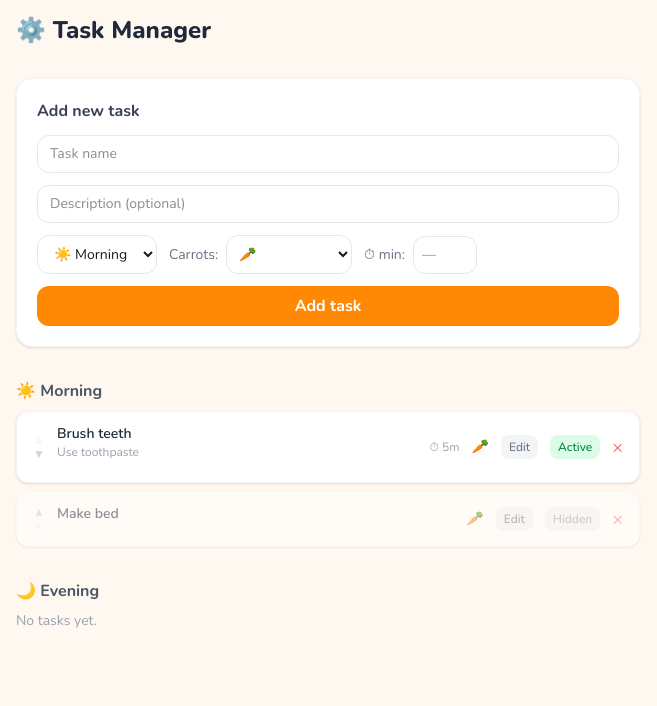
Test: TaskManager editing › clears the error when editing carrots
Expected: the text "Brush teeth" is shown, 57,424 -> 132,443
Click the button "Edit" in the row of "Use toothpaste" at (520, 447), box 501,435 -> 538,459
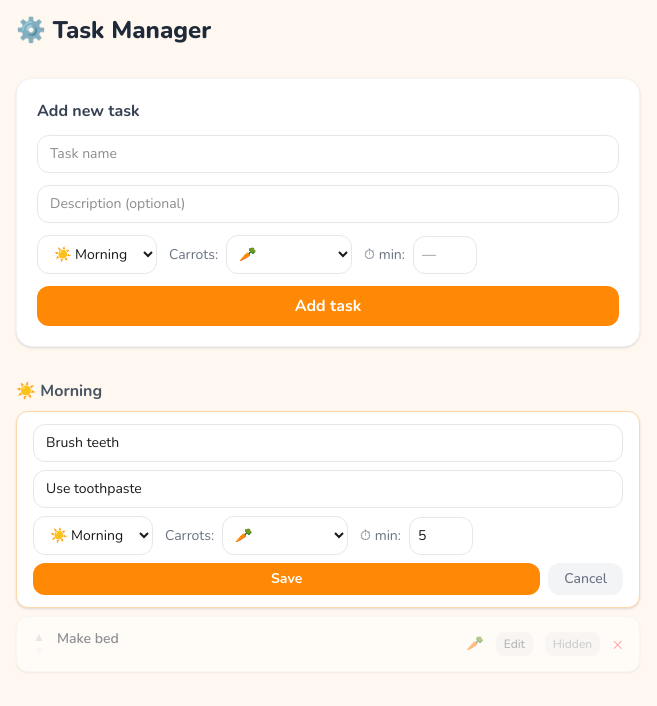
Click the button "Save" at (287, 579), box 33,563 -> 540,595
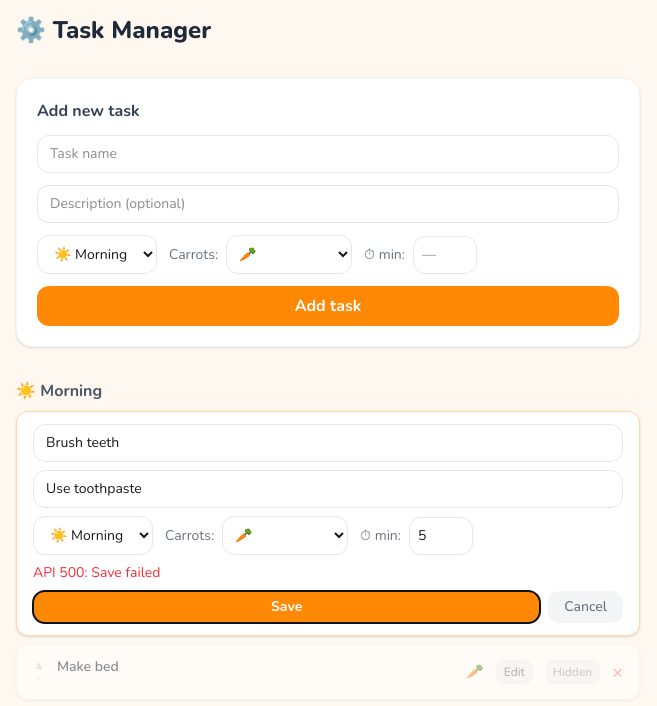
Result: the message "API 500: Save failed" is shown at 33,563 -> 160,582
Select "🥕🥕" in the 4th dropdown at (285, 536), box 222,516 -> 348,555
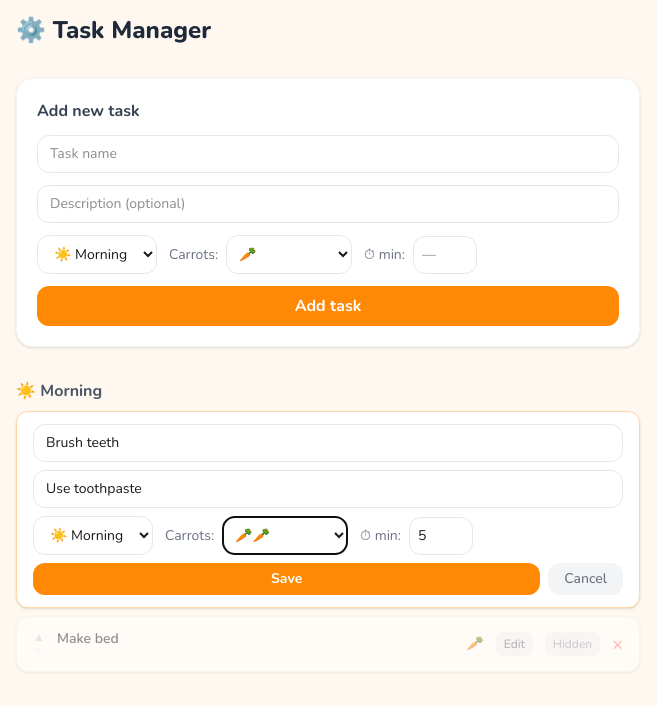
Result: the button "Save" is shown at 33,563 -> 540,595
Result: the message "API 500: Save failed" is gone
